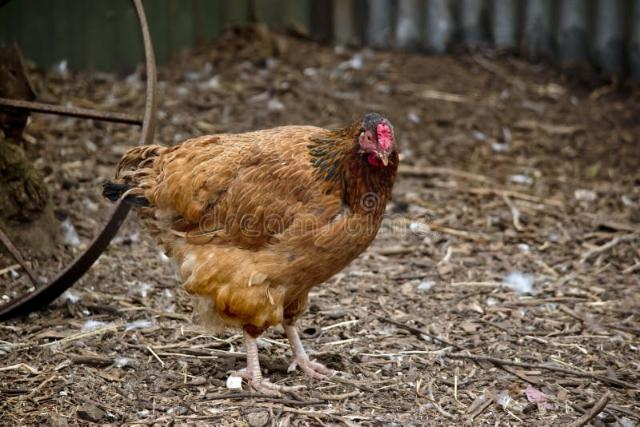Chicken: (115, 110, 399, 390)
